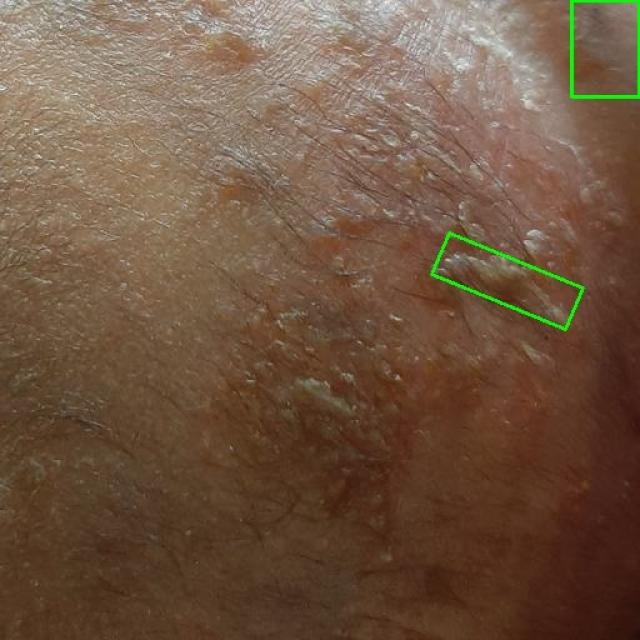Seborrheic Dermatitis: (432, 233, 583, 330), (571, 0, 639, 96)
